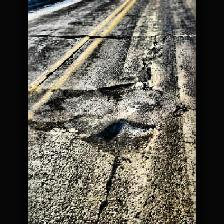pothole: (84, 119, 160, 158), (98, 82, 136, 96), (28, 118, 66, 132), (61, 87, 86, 97)
